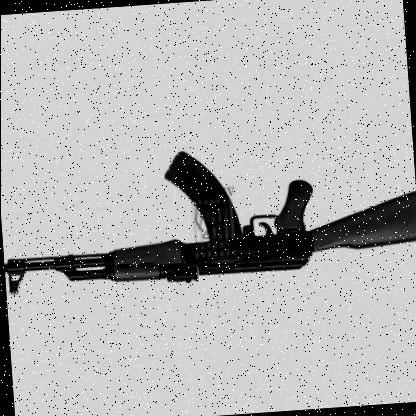rifle: (0, 126, 416, 328)
